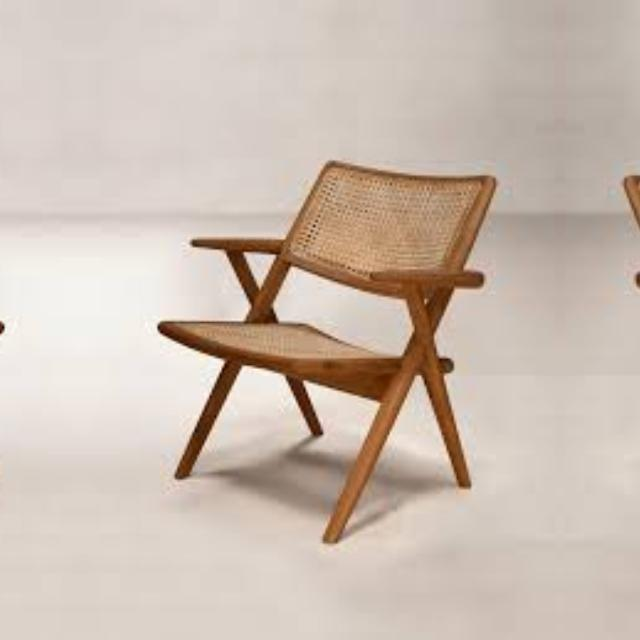obstacle: (139, 94, 521, 596), (598, 94, 640, 596), (0, 94, 21, 596)
